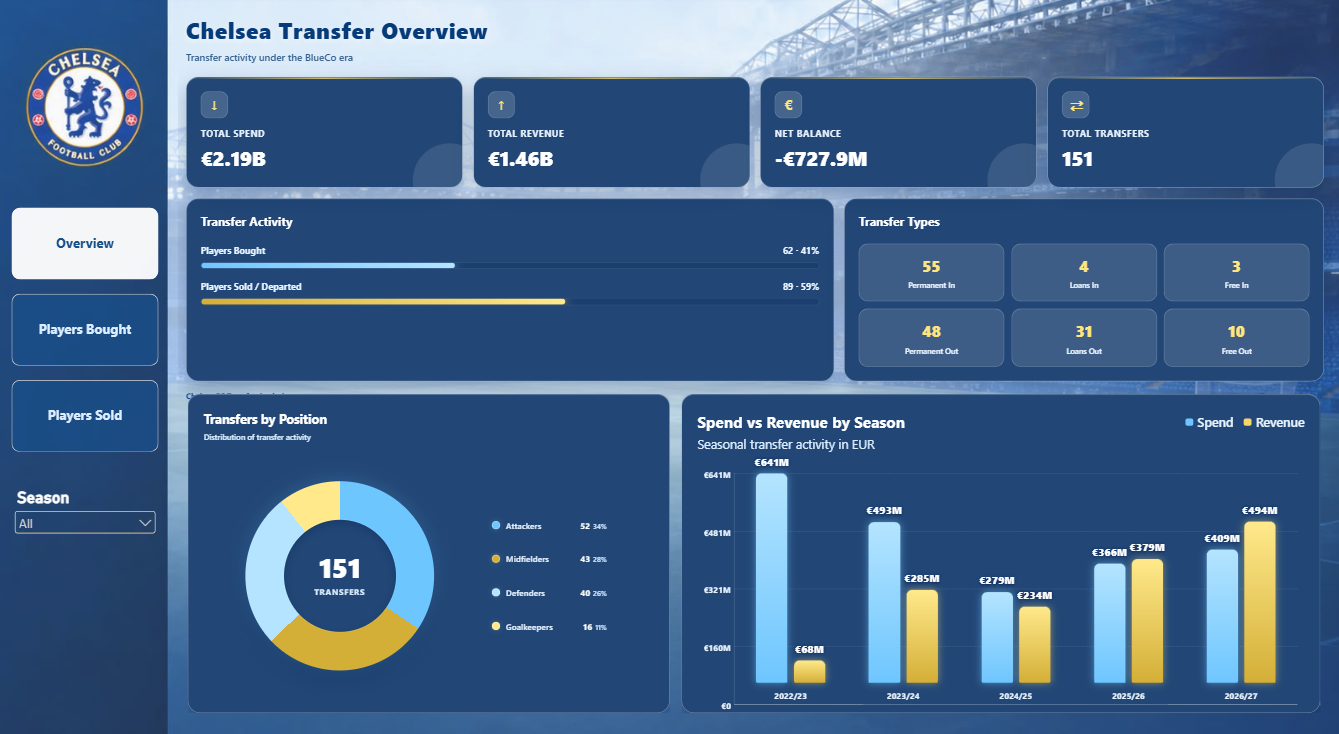

What the dashboard file says about the page in this screenshot:
{"tool":"powerbi","page":{"name":"Overview","canvas":[1920,1080],"ordinal":0},"visuals":[{"type":"htmlContent443BE3AD55E043BF878BED274D3A6855","fields":{"content":["Measures (2).Chelsea Overview HTML"]},"box":[238.8,0,1681.7,615.4],"z":0},{"type":"htmlContent443BE3AD55E043BF878BED274D3A6855","fields":{"content":["Measures (2).Overview Position Donut HTML"]},"box":[253.2,555.7,720.4,485.8],"z":1000},{"type":"htmlContent443BE3AD55E043BF878BED274D3A6855","fields":{"content":["Measures (2).Overview Season Transfer Bar HTML"]},"box":[959.2,555.7,944.8,485.8],"z":2000},{"type":"pageNavigator","box":[17.9,303.6,210,350],"z":2001},{"type":"slicer","title":"اا","fields":{"Values":["TransfersTable.Season"]},"box":[17.9,703.6,210.7,94.6],"z":2002}]}

Visuals, with their boxes on the page's 1920x1080 design canvas (x1, y1, x2, y2). These are canvas units, not pixel positions in the 1339x734 screenshot, which may show the page scaled, cropped or inside an application window:
htmlContent443BE3AD55E043BF878BED274D3A6855 - Measures (2).Chelsea Overview HTML: rect(239, 0, 1920, 615)
htmlContent443BE3AD55E043BF878BED274D3A6855 - Measures (2).Overview Position Donut HTML: rect(253, 556, 974, 1042)
htmlContent443BE3AD55E043BF878BED274D3A6855 - Measures (2).Overview Season Transfer Bar HTML: rect(959, 556, 1904, 1042)
pageNavigator: rect(18, 304, 228, 654)
"اا" slicer: rect(18, 704, 229, 798)
